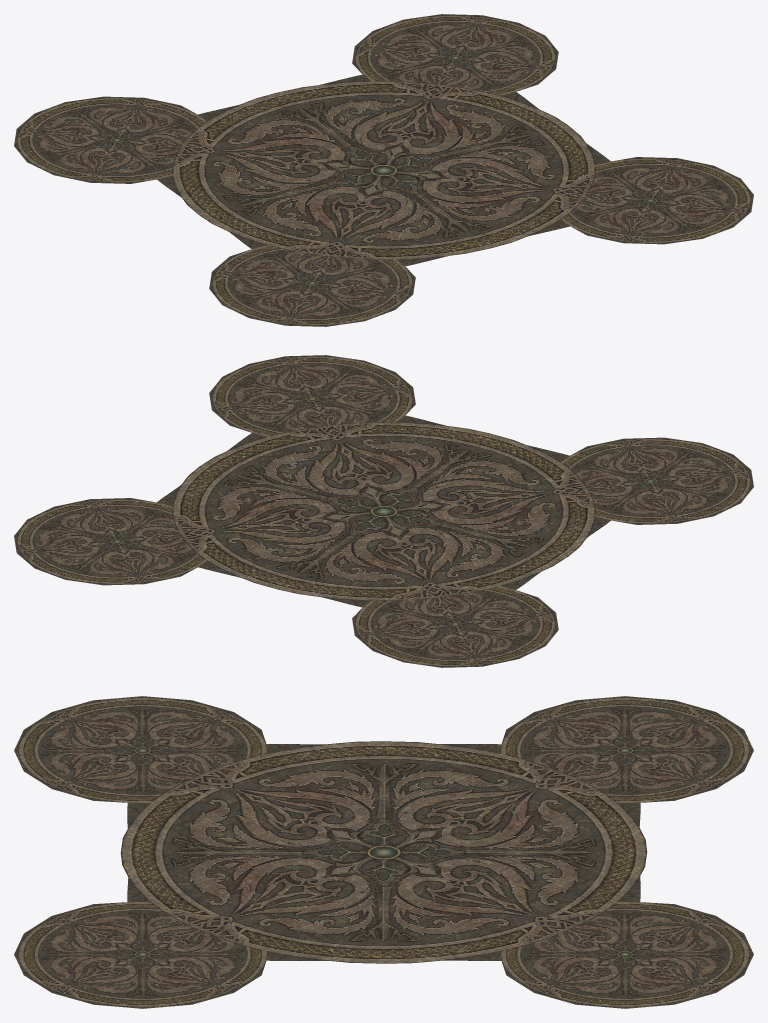
Rendered from miniboss_01-base02.fbx.
3 views of the same model, one above another, from view 1: azimuth 30°, elevation 25°; view 2: azimuth 150°, elevation 25°; view 3: azimuth 270°, elevation 25° (orthographic). The views are drawn at different scales.
Parts seen in each view (by area): view 1: miniboss_base02; view 2: miniboss_base02; view 3: miniboss_base02.
Part boxes in pixels (x1=…): miniboss_base02: x1=14, y1=14, x2=753, y2=326; miniboss_base02: x1=14, y1=355, x2=753, y2=667; miniboss_base02: x1=14, y1=696, x2=753, y2=1008.
Size of the model in its own units: 41.28 by 2.44e-06 by 41.28.
